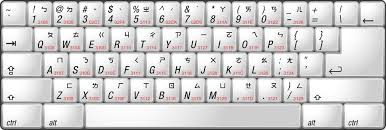keyboard: (0, 0, 386, 130)
